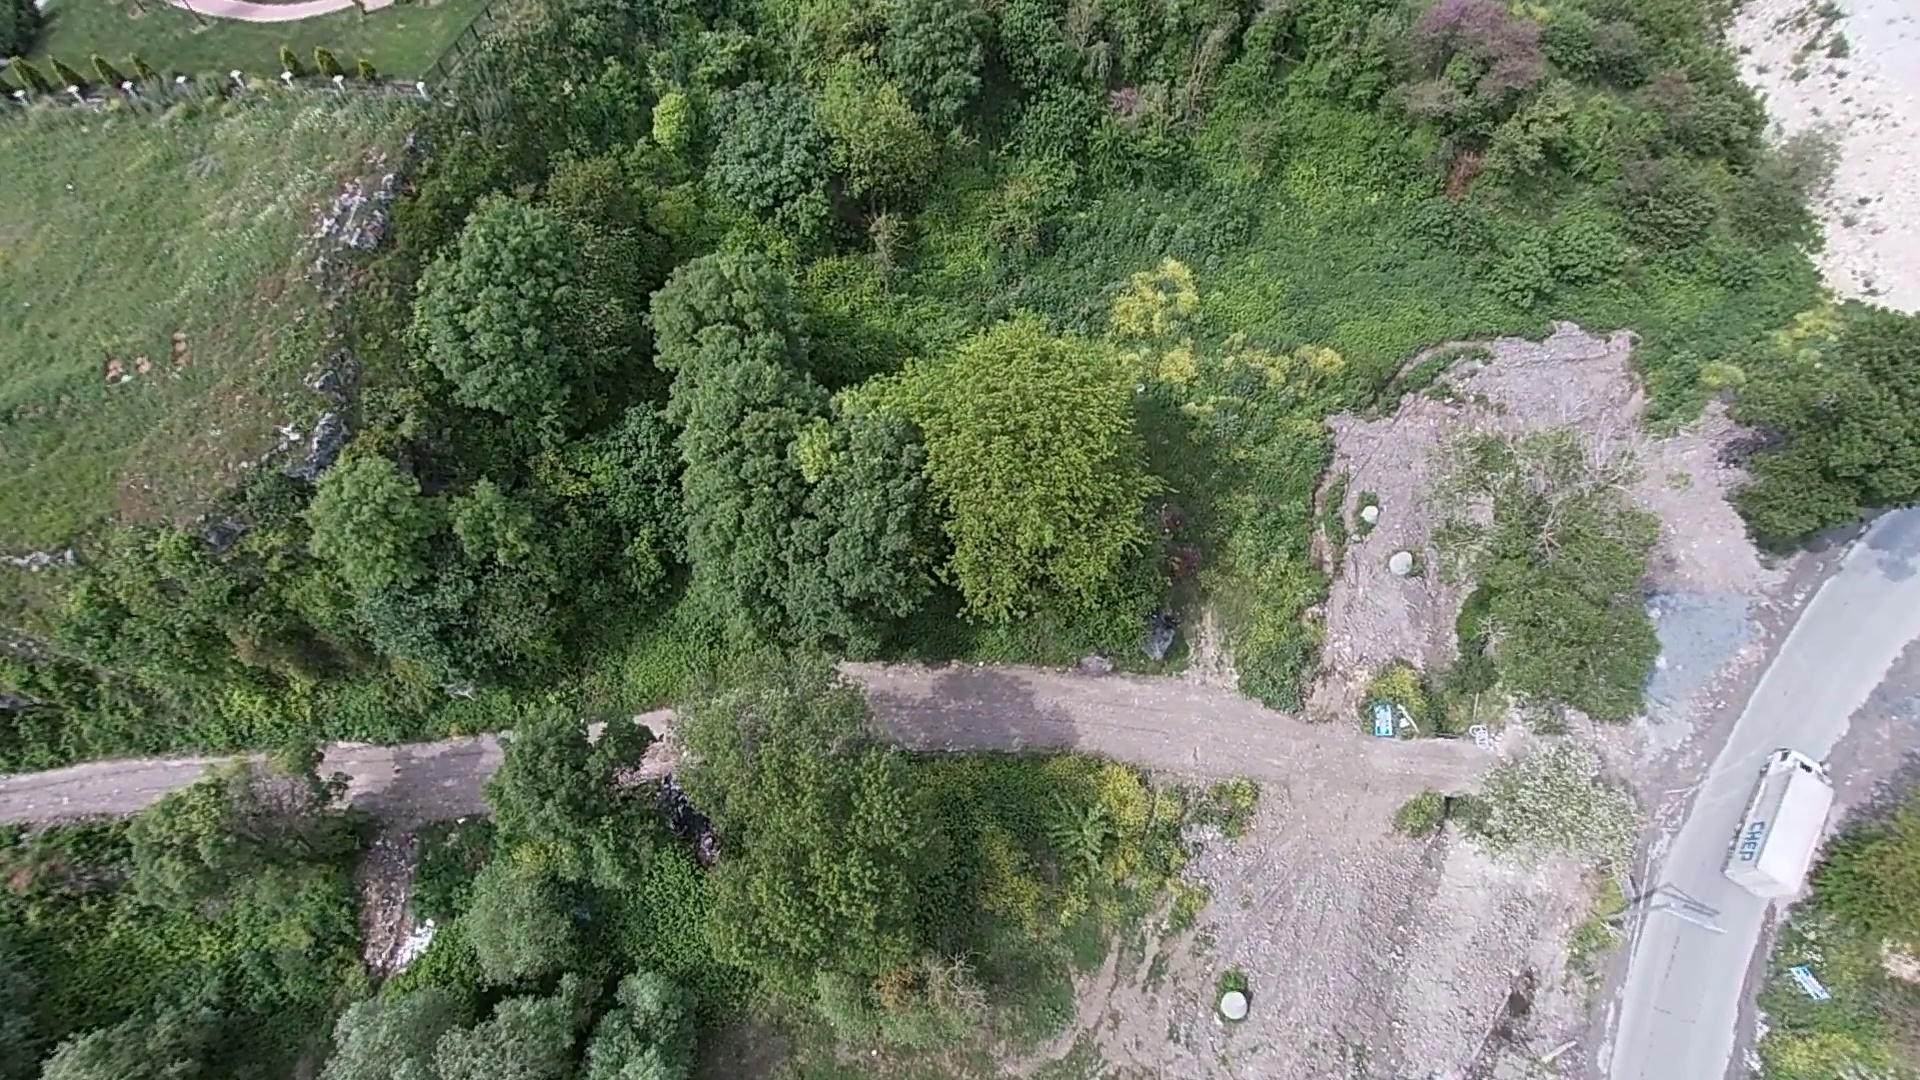kamyon: (1712, 738, 1833, 907)
